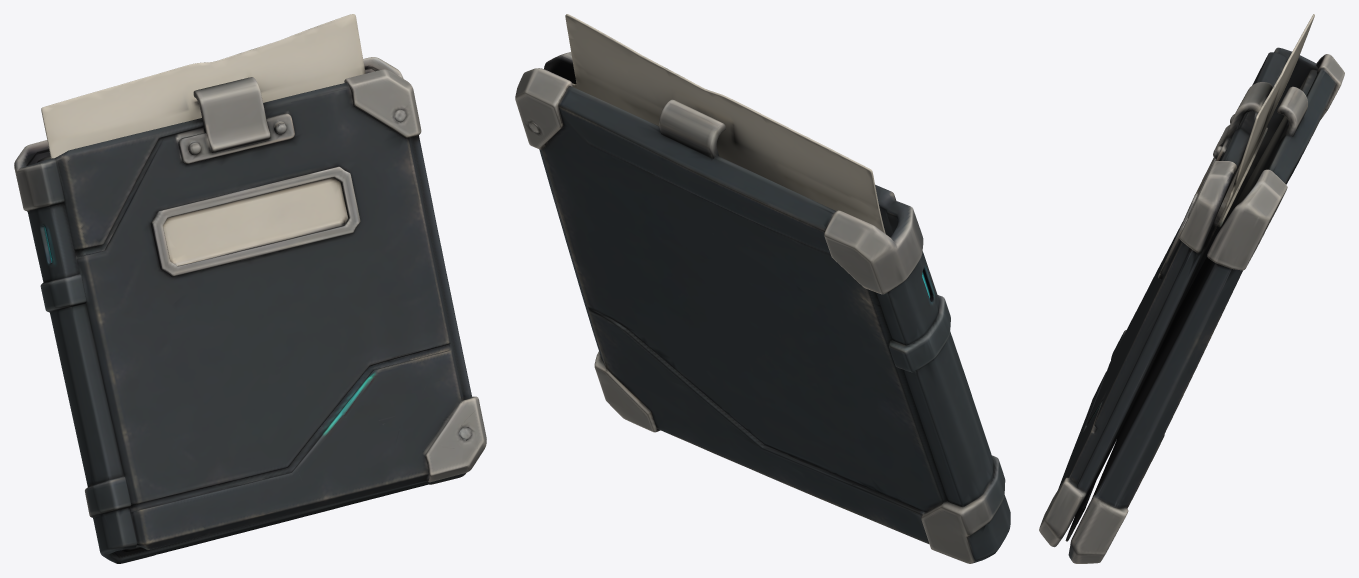
3 renders of one model, left to right at view 1: azimuth 30°, elevation 25°; view 2: azimuth 150°, elevation 25°; view 3: azimuth 270°, elevation 25°, orthographic. The views are drawn at different scales.
Parts seen in each view (by area): view 1: node_0; view 2: node_0; view 3: node_0.
Boxes of the visible parts, left/top/right/bottom form: node_0: left=14, top=14, right=486, bottom=563; node_0: left=515, top=14, right=1010, bottom=563; node_0: left=1039, top=14, right=1344, bottom=563.
Size of the model in its own units: 0.7994 by 0.9361 by 0.5558.
Materials: 1 (1 with a texture image).
